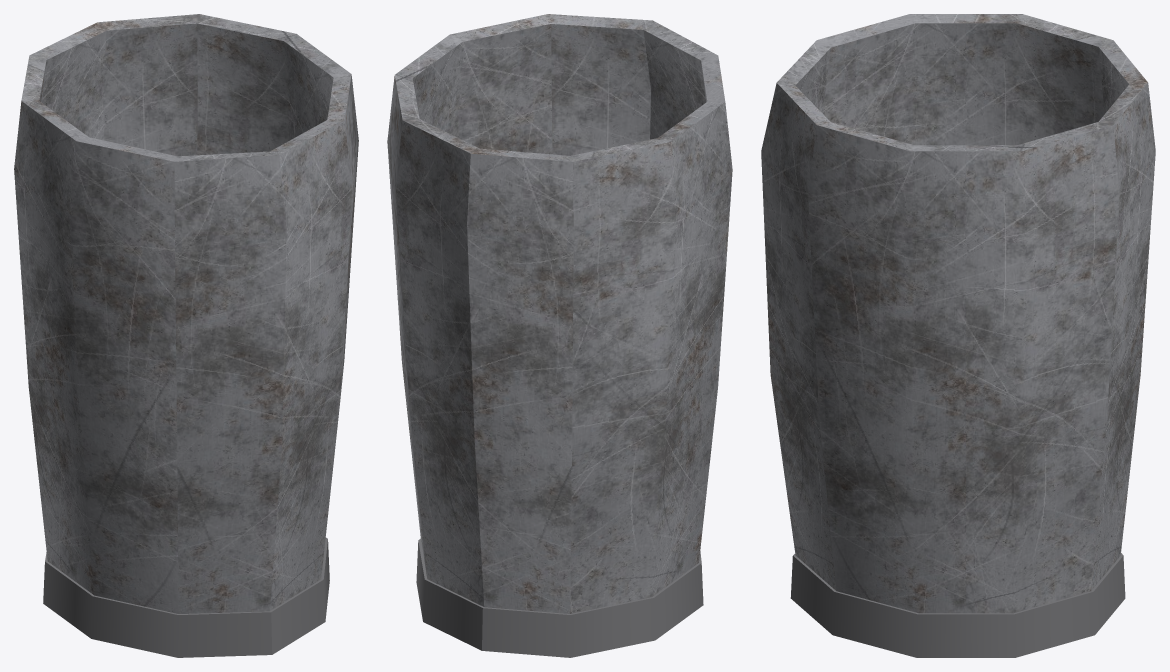
Rendered from armor_thigh.glb.
3 views of the same model, side by side, from view 1: azimuth 30°, elevation 25°; view 2: azimuth 150°, elevation 25°; view 3: azimuth 270°, elevation 25° (orthographic). The views are drawn at different scales.
Parts seen in each view (by area): view 1: ArmorThigh; view 2: ArmorThigh; view 3: ArmorThigh.
Part boxes in pixels (bbox=[...]): ArmorThigh: bbox=[14, 14, 358, 657]; ArmorThigh: bbox=[387, 14, 732, 657]; ArmorThigh: bbox=[761, 14, 1155, 657].
Size of the model in its own units: 0.1788 by 0.3003 by 0.208.
Materials: 2 (1 with a texture image).
